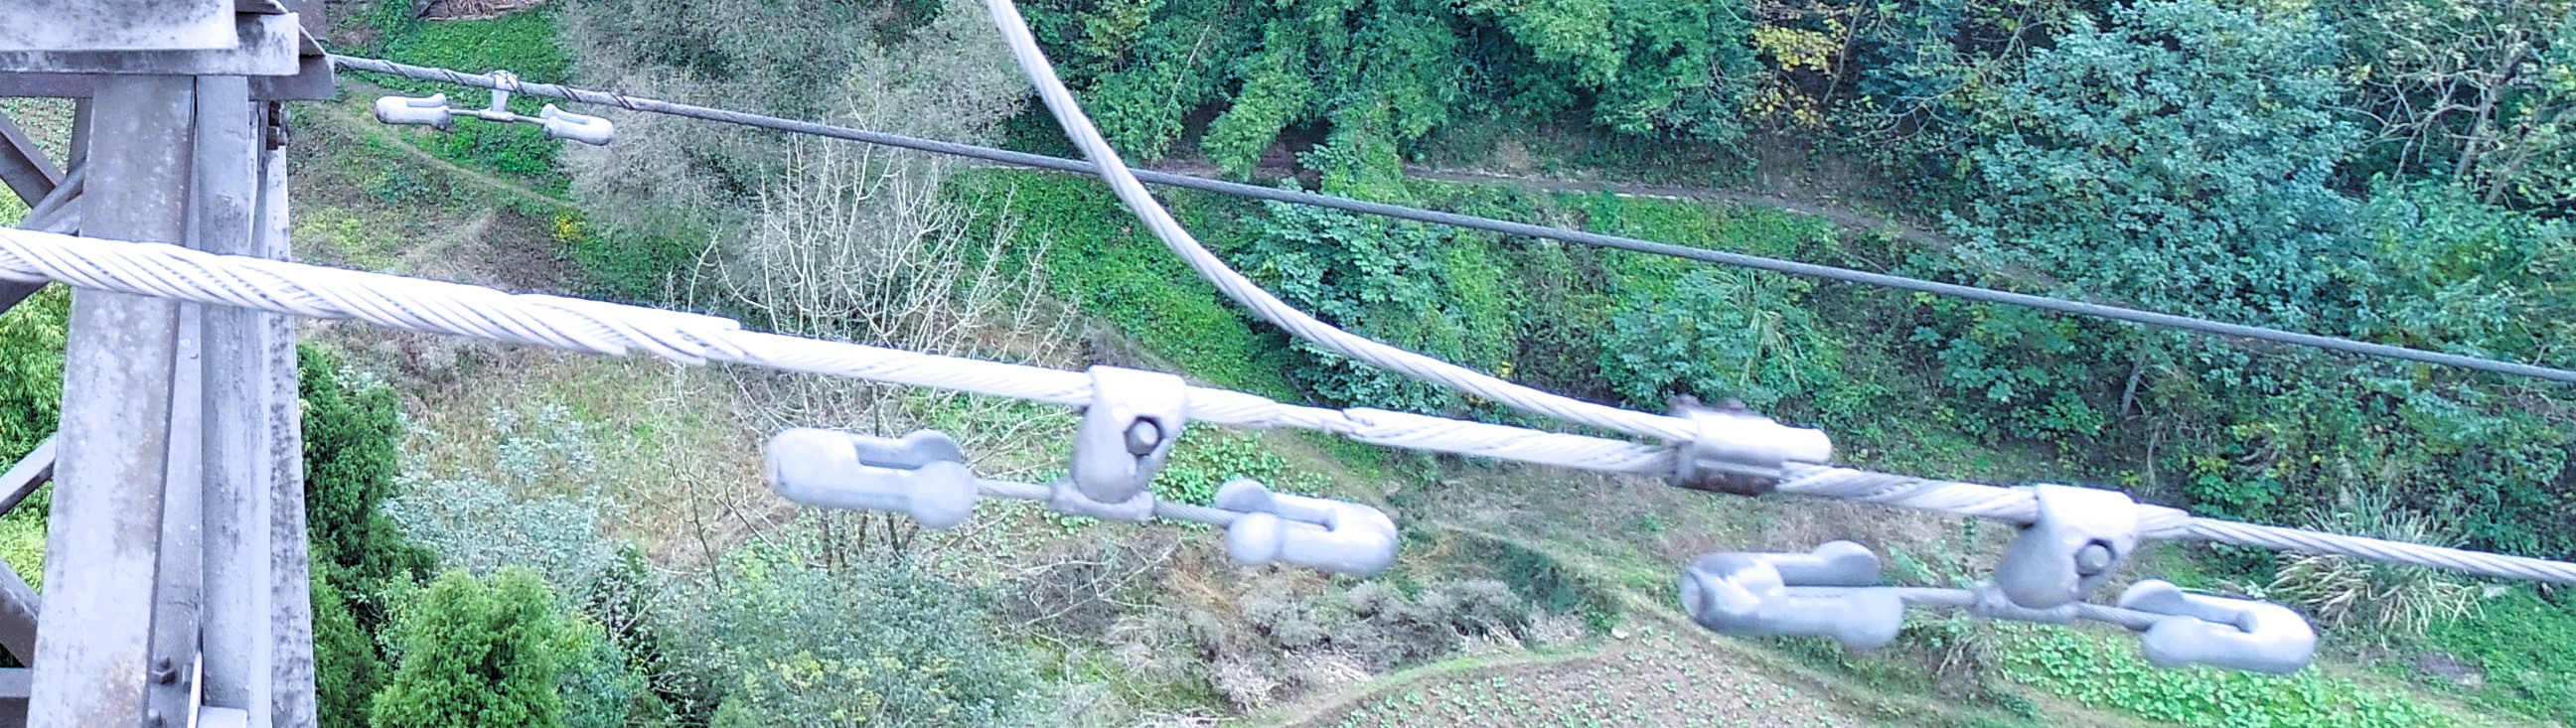Shockproof hammer: (752, 324, 1419, 611), (1653, 422, 2333, 702), (361, 44, 631, 173)
